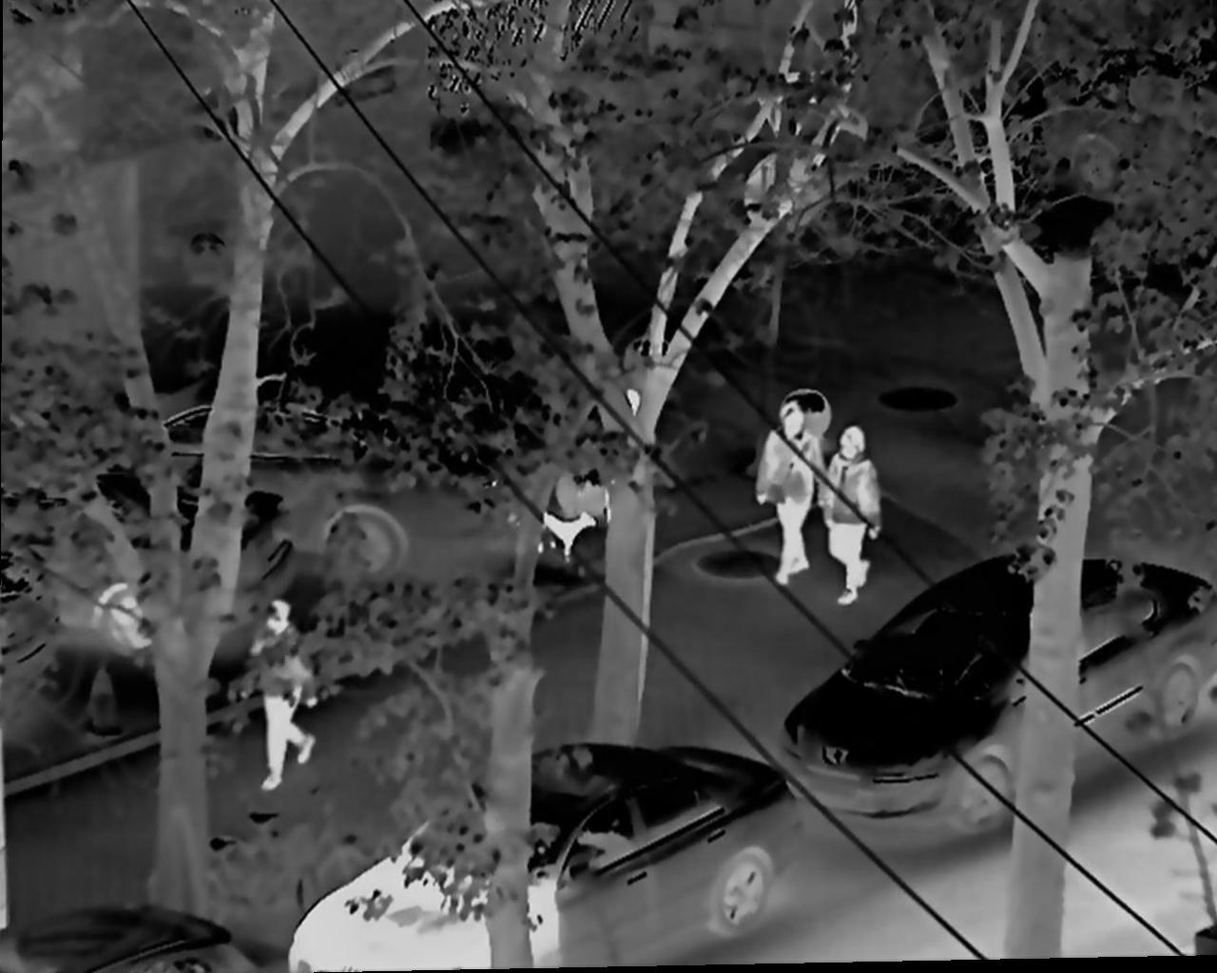person: (812, 425, 882, 608), (750, 401, 818, 589), (251, 602, 313, 793)
